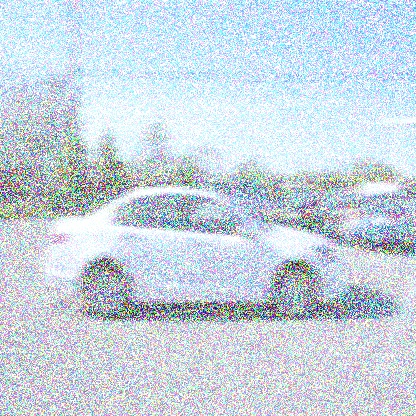Vehicle: (47, 190, 346, 321)
